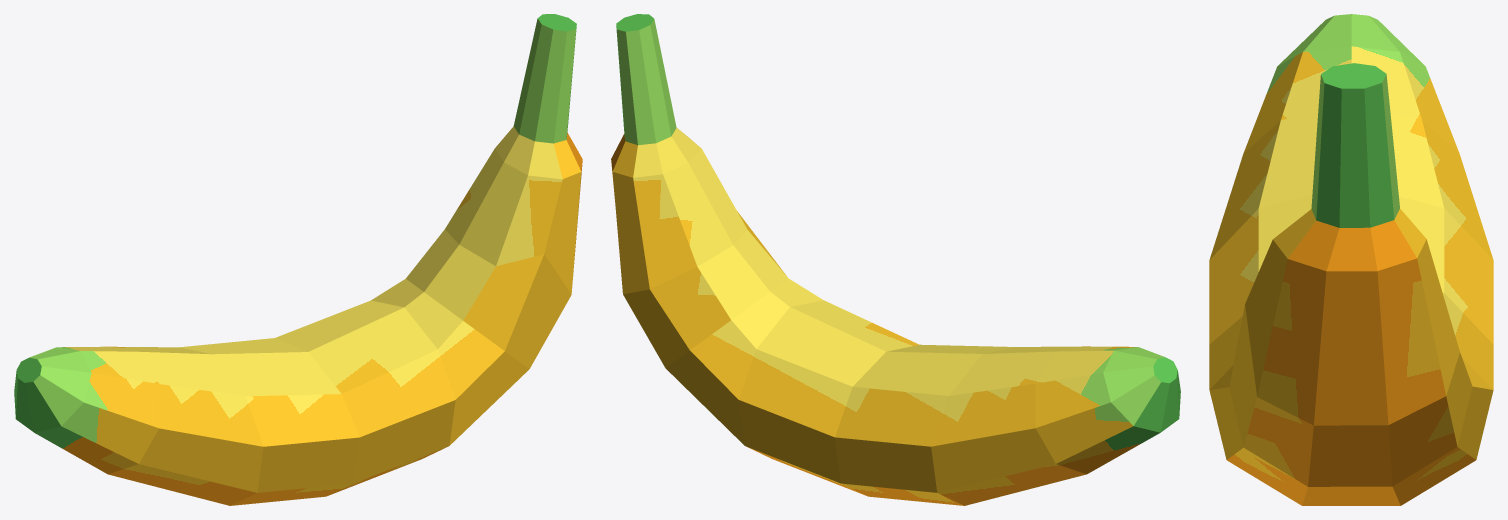
The model's file is banana.fbx.
3 renders of one model, left to right at view 1: azimuth 30°, elevation 25°; view 2: azimuth 150°, elevation 25°; view 3: azimuth 270°, elevation 25°, orthographic. The views are drawn at different scales.
Parts seen in each view (by area): view 1: banana; view 2: banana; view 3: banana.
Part boxes in pixels (left/top/right/bottom): banana: left=14, top=14, right=582, bottom=505; banana: left=611, top=14, right=1180, bottom=505; banana: left=1209, top=14, right=1493, bottom=505.
Size of the model in its own units: 120 by 83.54 by 38.7.
1 material, 1 textured.
